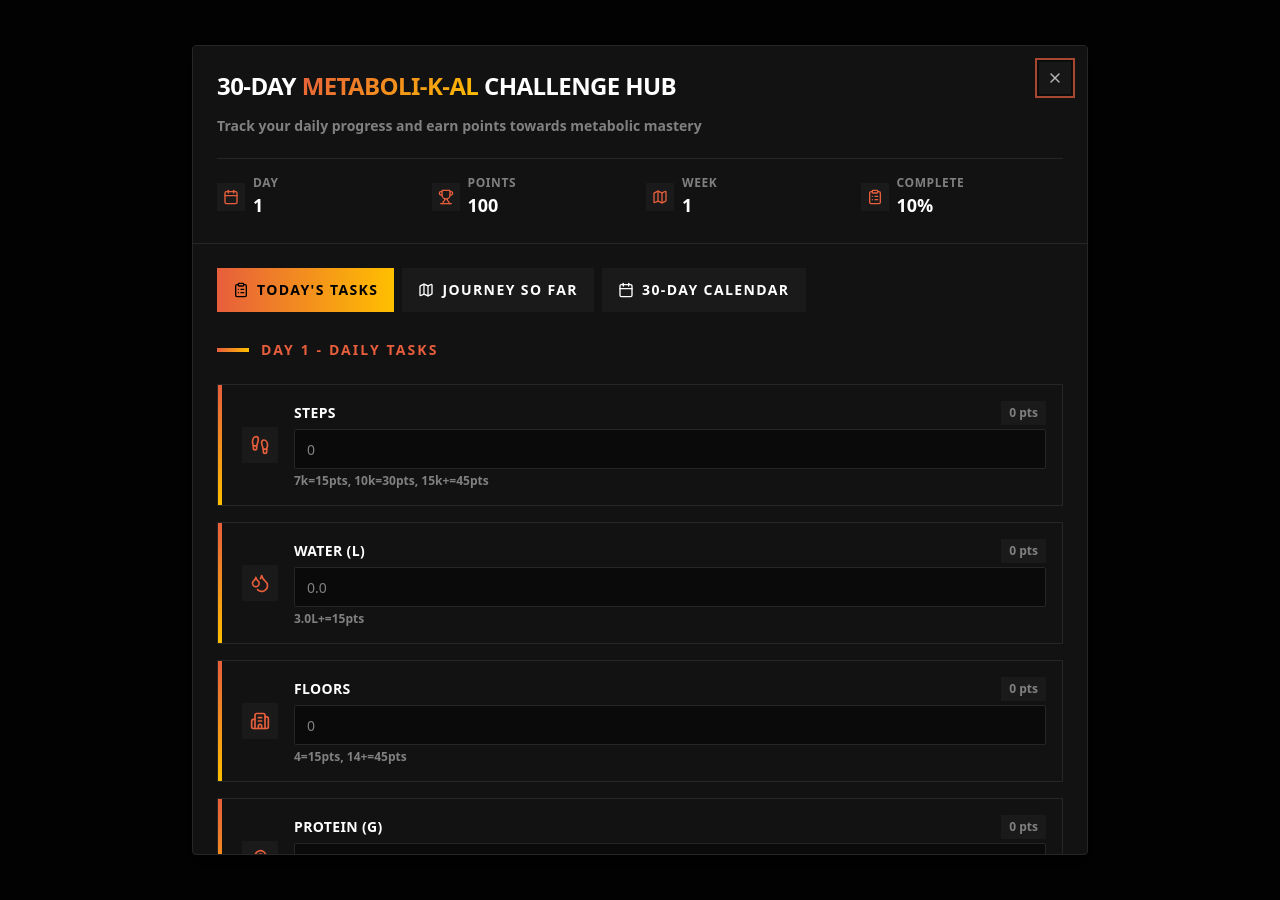
Scenario: ChallengeHubModal › switches to Journey tab when clicked
Click the button "Journey So Far". click: (498, 290)
box: left=402, top=268, right=594, bottom=312
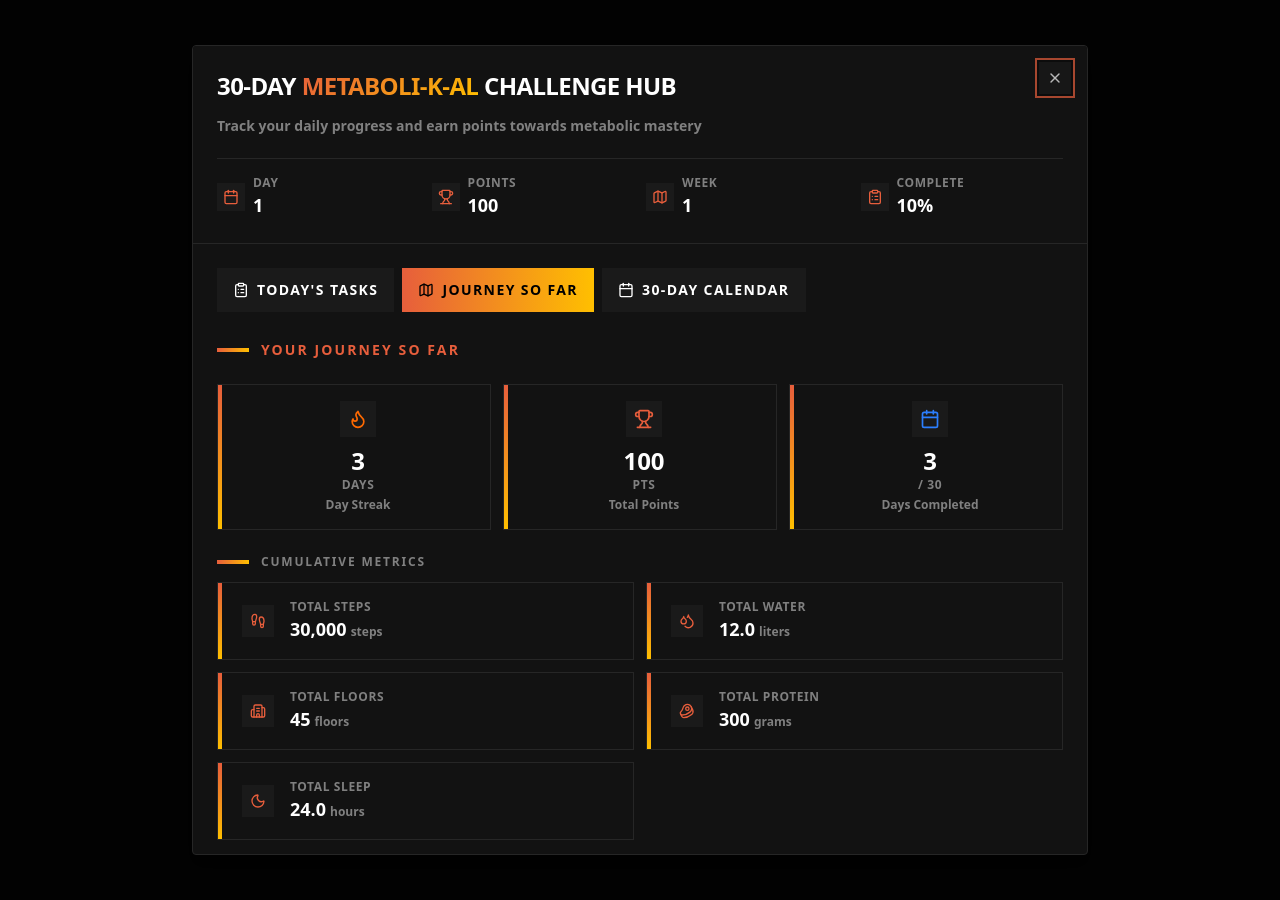
expect the heading "Your Journey So Far" is shown: met, box left=261, top=340, right=460, bottom=360
